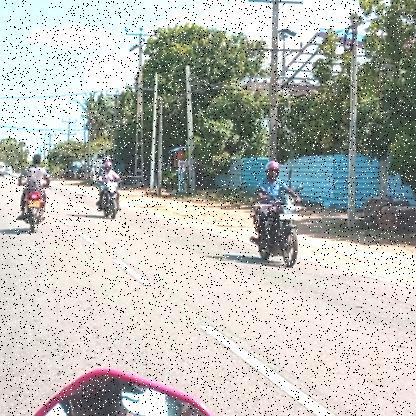motorcycle: (246, 194, 308, 271), (15, 188, 50, 236), (94, 181, 124, 221)
